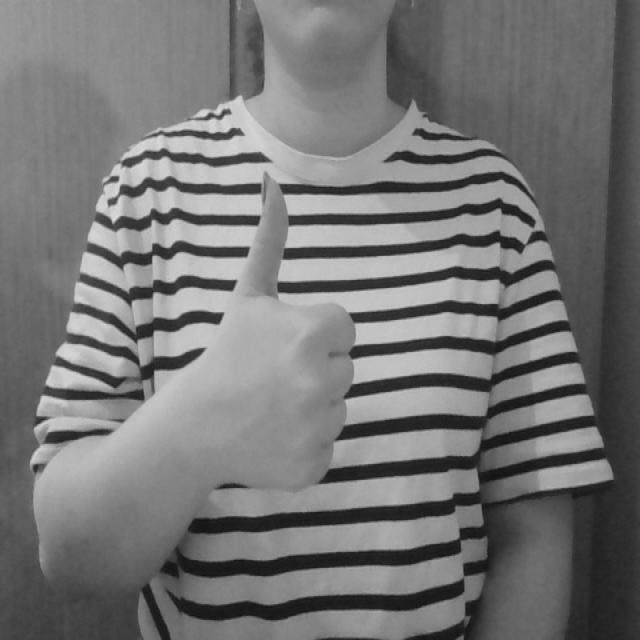Tamam: (202, 159, 362, 496)
